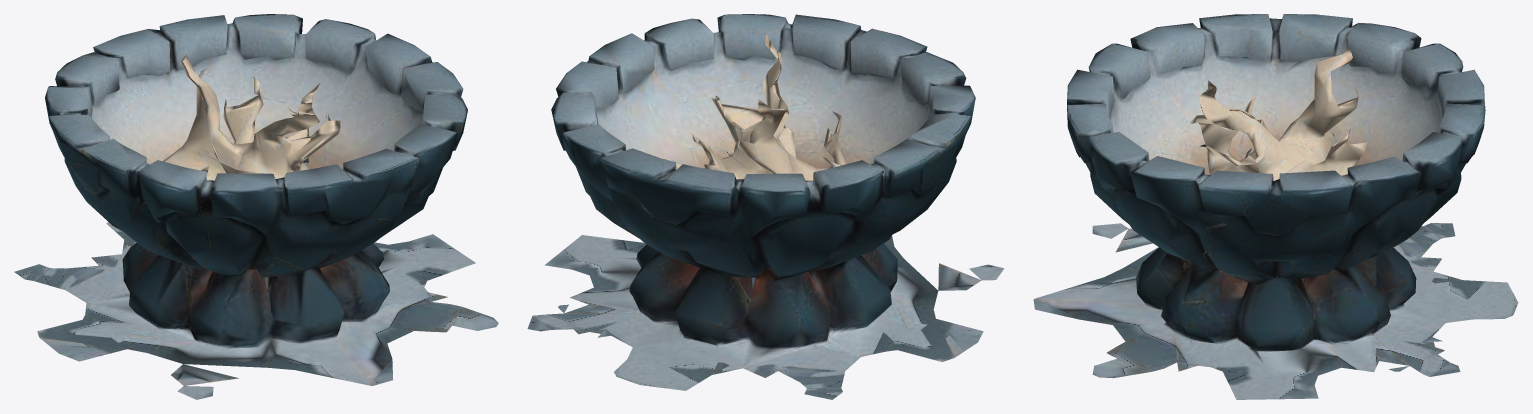
Rendered from brazier.glb.
3 views of the same model, side by side, from view 1: azimuth 30°, elevation 25°; view 2: azimuth 150°, elevation 25°; view 3: azimuth 270°, elevation 25° (orthographic).
Size of the model in its own units: 1.86 by 1.02 by 1.9.
Materials: 1 (1 with a texture image).
